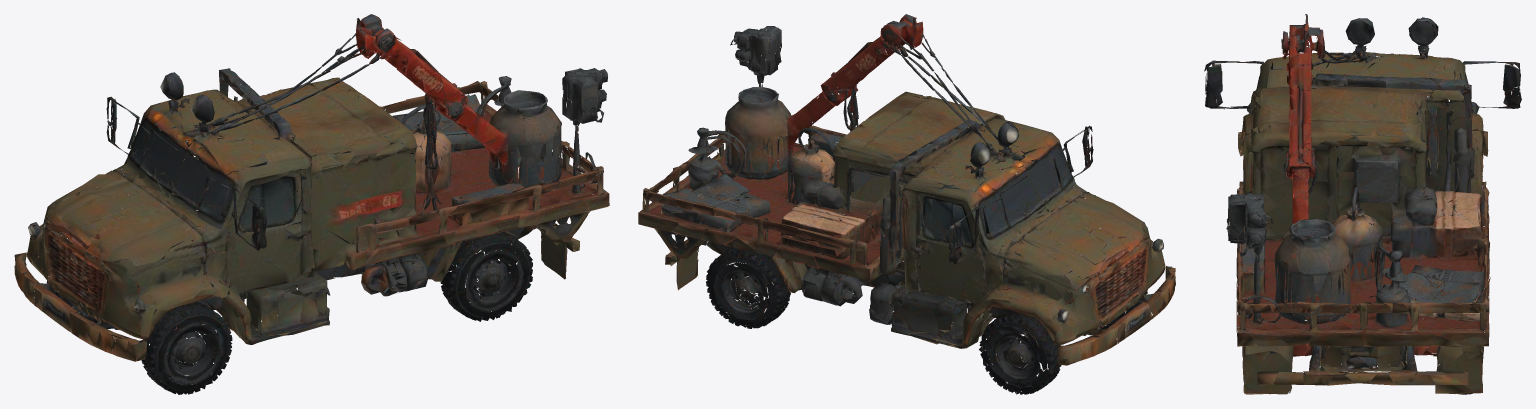
3 renders of one model, left to right at view 1: azimuth 30°, elevation 25°; view 2: azimuth 150°, elevation 25°; view 3: azimuth 270°, elevation 25°, orthographic. The views are drawn at different scales.
Parts seen in each view (by area): view 1: Mesh_0; view 2: Mesh_0; view 3: Mesh_0.
Part boxes in pixels (box(x1,y1,x2,y2)): Mesh_0: box(14, 14, 609, 394); Mesh_0: box(638, 14, 1175, 394); Mesh_0: box(1204, 14, 1521, 394).
Bounding box in the file's own units: 1.91 × 1.14 × 1.02.
Materials: 1 (1 with a texture image).
